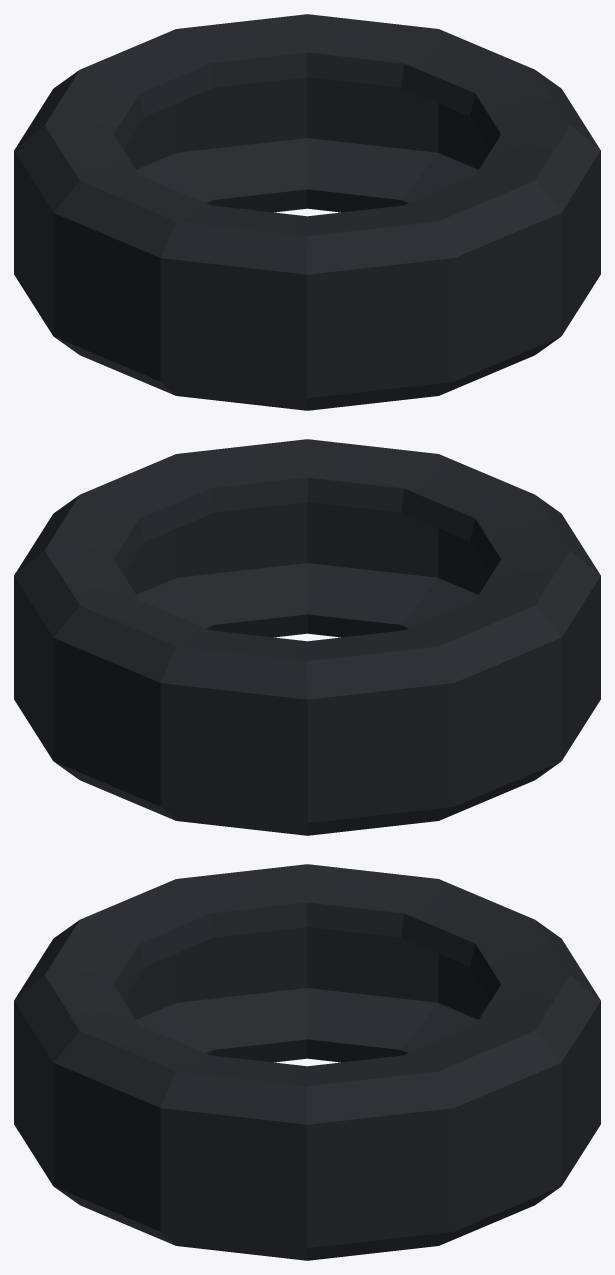
The model's file is SM_Prop_Tire_01_735.obj.
3 renders of one model, top to bottom at view 1: azimuth 30°, elevation 25°; view 2: azimuth 150°, elevation 25°; view 3: azimuth 270°, elevation 25°, orthographic.
Parts seen in each view (by area): view 1: SM_Prop_Tire_01_0; view 2: SM_Prop_Tire_01_0; view 3: SM_Prop_Tire_01_0.
Boxes of the visible parts, box(x1,y1,x2,y2) form: SM_Prop_Tire_01_0: box(14, 14, 600, 410); SM_Prop_Tire_01_0: box(14, 439, 600, 835); SM_Prop_Tire_01_0: box(14, 864, 600, 1260).
Bounding box in the file's own units: 0.8258 × 0.271 × 0.8258.
Materials: 1 (1 with a texture image).
